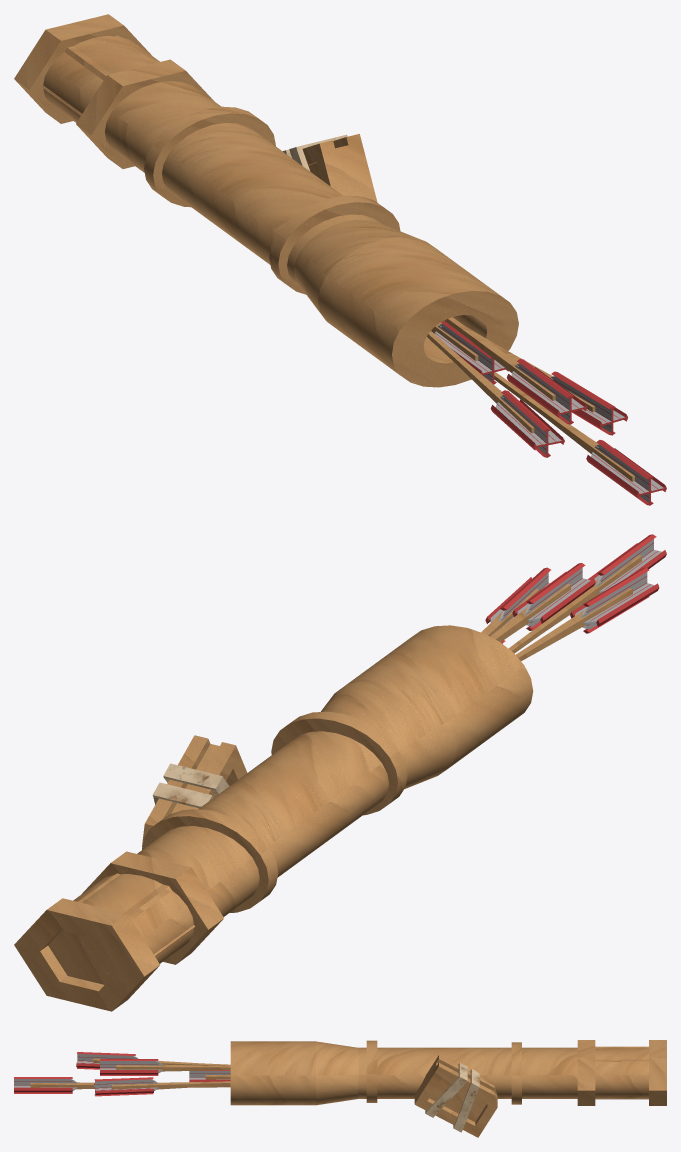
File: Quiver.fbx
The picture shows the model from 3 angles, top to bottom: view 1: azimuth 30°, elevation 25°; view 2: azimuth 150°, elevation 25°; view 3: azimuth 270°, elevation 25°; orthographic projection. The views are drawn at different scales.
Parts seen in each view (by area): view 1: mergedBlocks; view 2: mergedBlocks; view 3: mergedBlocks.
Boxes of the visible parts, box(x1,y1,x2,y2) form: mergedBlocks: box(14, 14, 666, 505); mergedBlocks: box(14, 534, 666, 1011); mergedBlocks: box(14, 1040, 666, 1137).
Bounding box in the file's own units: 5.76 × 4.42 × 36.51.
Materials: 5 (3 with a texture image).
